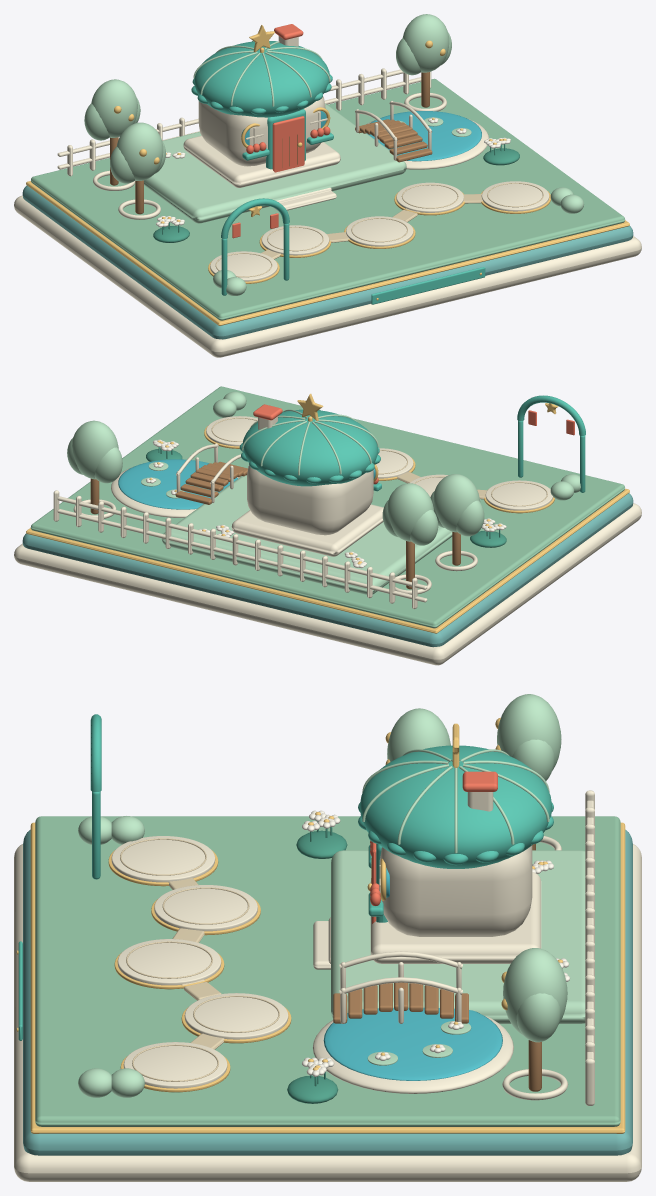
Rendered from park-v2.gltf.
3 views of the same model, one above another, from view 1: azimuth 30°, elevation 25°; view 2: azimuth 150°, elevation 25°; view 3: azimuth 270°, elevation 25° (orthographic). The views are drawn at different scales.
Parts seen in each view (by area): view 1: StarGarden_Static; view 2: StarGarden_Static; view 3: StarGarden_Static.
Boxes of the visible parts, x1,y1,x2,y2 form: StarGarden_Static: (14, 14, 641, 357); StarGarden_Static: (14, 386, 641, 665); StarGarden_Static: (14, 694, 641, 1181).
Size of the model in its own units: 12.5 by 5.14 by 10.3.
